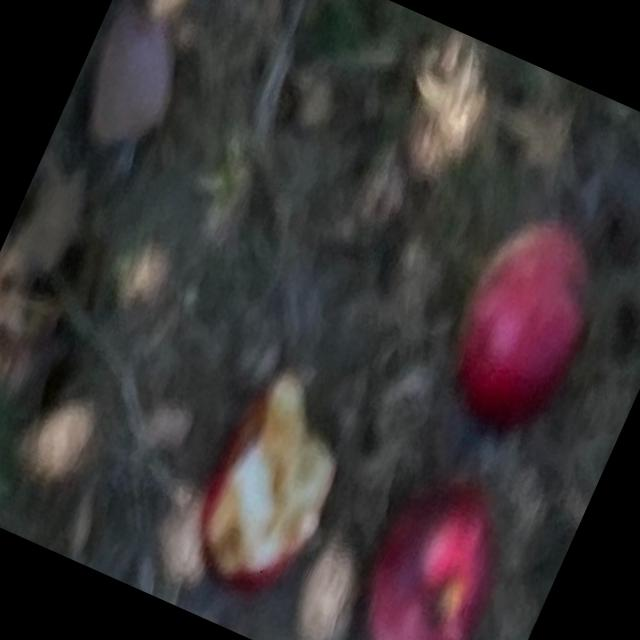Apples: (426, 208, 620, 444), (334, 460, 526, 639)
